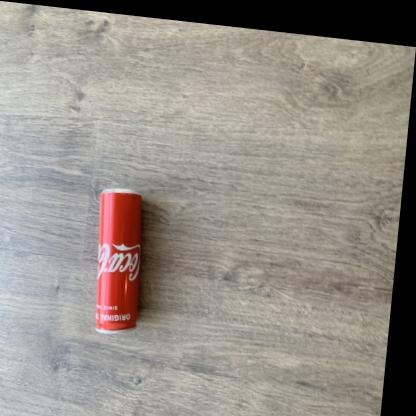trash: (96, 190, 141, 331)
